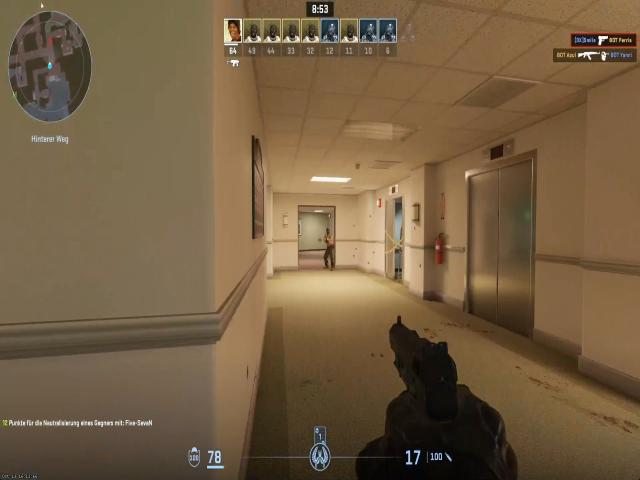T: (322, 223, 335, 264)
T-Head: (324, 226, 332, 239)
